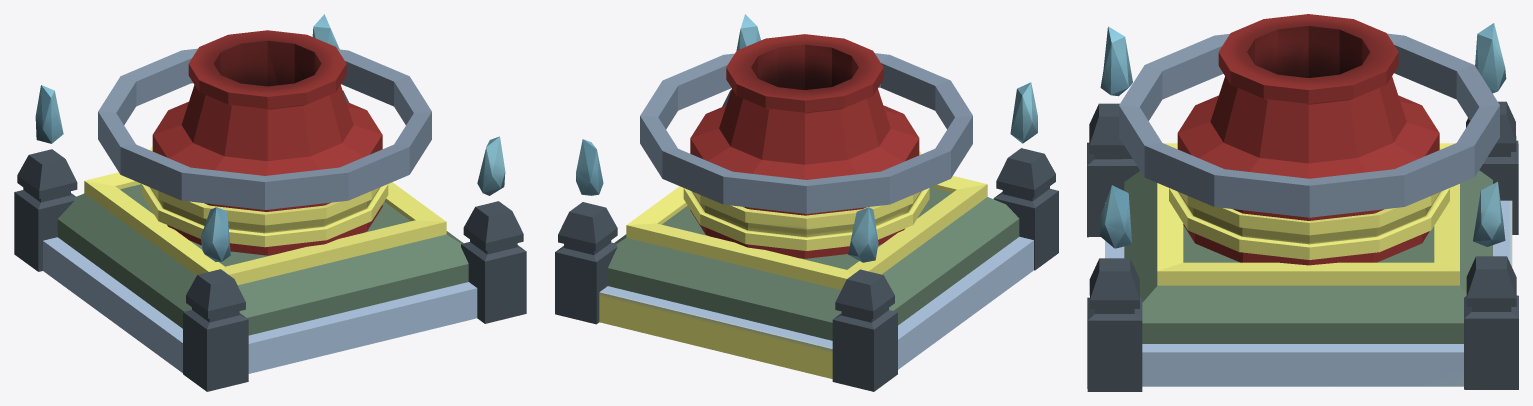
File: Torres mortier3.fbx
3 views of the same model, side by side, from view 1: azimuth 30°, elevation 25°; view 2: azimuth 150°, elevation 25°; view 3: azimuth 270°, elevation 25° (orthographic). The views are drawn at different scales.
Visible parts, largest first — view 1: Tour 3; view 2: Tour 3; view 3: Tour 3.
Part boxes in pixels (left/top/right/bottom): Tour 3: left=14, top=14, right=526, bottom=391; Tour 3: left=555, top=14, right=1058, bottom=391; Tour 3: left=1087, top=14, right=1518, bottom=391.
Size of the model in its own units: 6.14 by 3.97 by 6.22.
